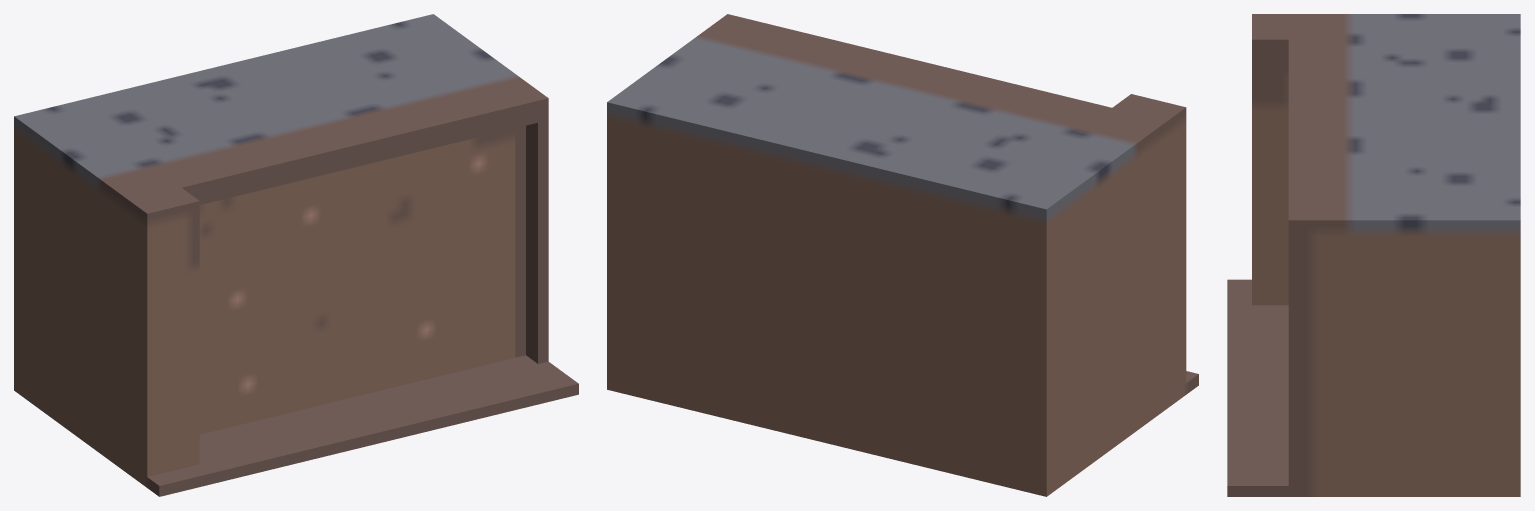
Rendered from BuildingBlock-5.fbx.
3 renders of one model, left to right at view 1: azimuth 30°, elevation 25°; view 2: azimuth 150°, elevation 25°; view 3: azimuth 270°, elevation 25°, orthographic. The views are drawn at different scales.
Visible parts, largest first — view 1: BuildingBlock_5; view 2: BuildingBlock_5; view 3: BuildingBlock_5.
Boxes of the visible parts, x1=… form: BuildingBlock_5: x1=14, y1=14, x2=578, y2=496; BuildingBlock_5: x1=607, y1=14, x2=1198, y2=496; BuildingBlock_5: x1=1227, y1=14, x2=1520, y2=496.
Bounding box in the file's own units: 400 × 250 × 240.
